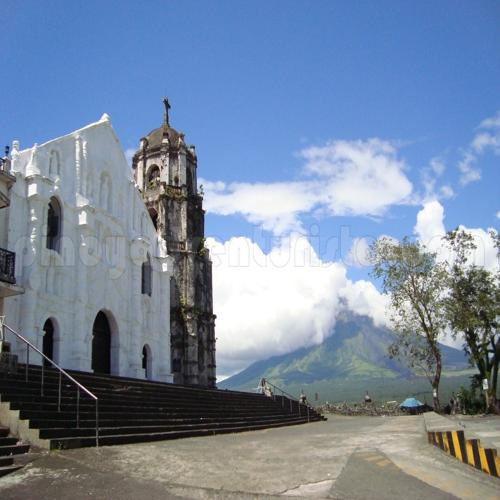Daraga Church: (1, 91, 221, 390)
